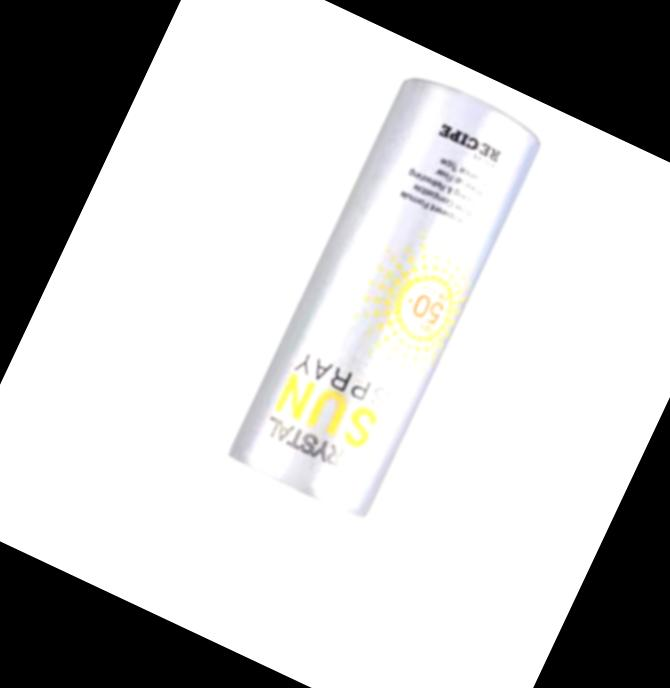cosmetic: (159, 65, 545, 651)
